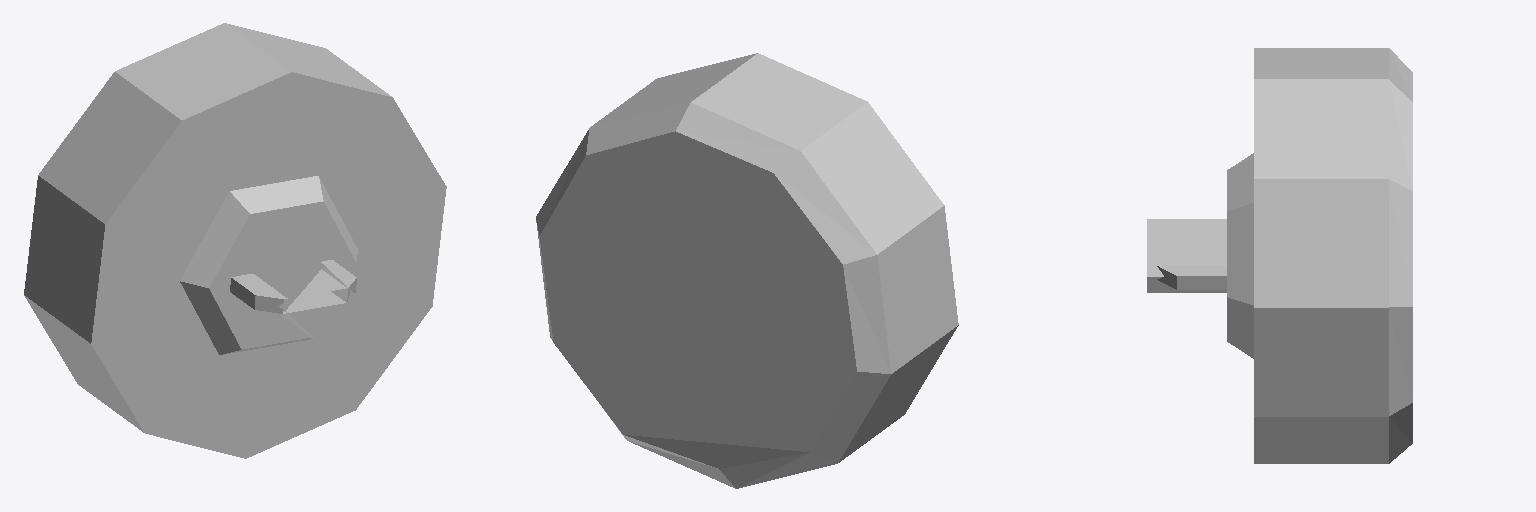
The model's file is wheel10.obj.
3 renders of one model, left to right at view 1: azimuth 30°, elevation 25°; view 2: azimuth 150°, elevation 25°; view 3: azimuth 270°, elevation 25°, orthographic.
Parts seen in each view (by area): view 1: wheel_low_textures; view 2: wheel_low_textures; view 3: wheel_low_textures.
Part boxes in pixels (x1,y1,x2,y2): wheel_low_textures: (24, 23, 446, 458); wheel_low_textures: (536, 53, 958, 488); wheel_low_textures: (1147, 48, 1412, 463).
Bounding box in the file's own units: 1.53 × 1.55 × 0.9907.